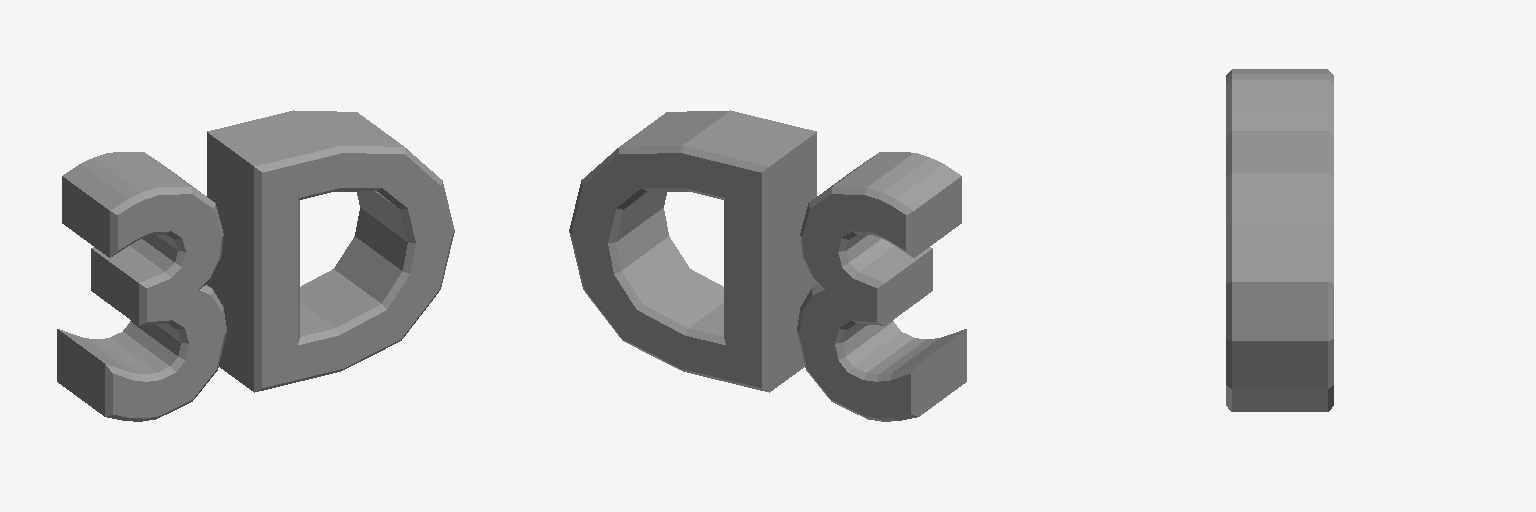
The model's file is textobject.obj.
3 renders of one model, left to right at view 1: azimuth 30°, elevation 25°; view 2: azimuth 150°, elevation 25°; view 3: azimuth 270°, elevation 25°, orthographic.
Visible parts, largest first — view 1: Text_Mesh; view 2: Text_Mesh; view 3: Text_Mesh.
Boxes of the visible parts, x1=… form: Text_Mesh: x1=57, y1=110, x2=454, y2=421; Text_Mesh: x1=569, y1=110, x2=966, y2=421; Text_Mesh: x1=1226, y1=69, x2=1333, y2=411.
Size of the model in its own units: 1.2 by 0.7585 by 0.318.